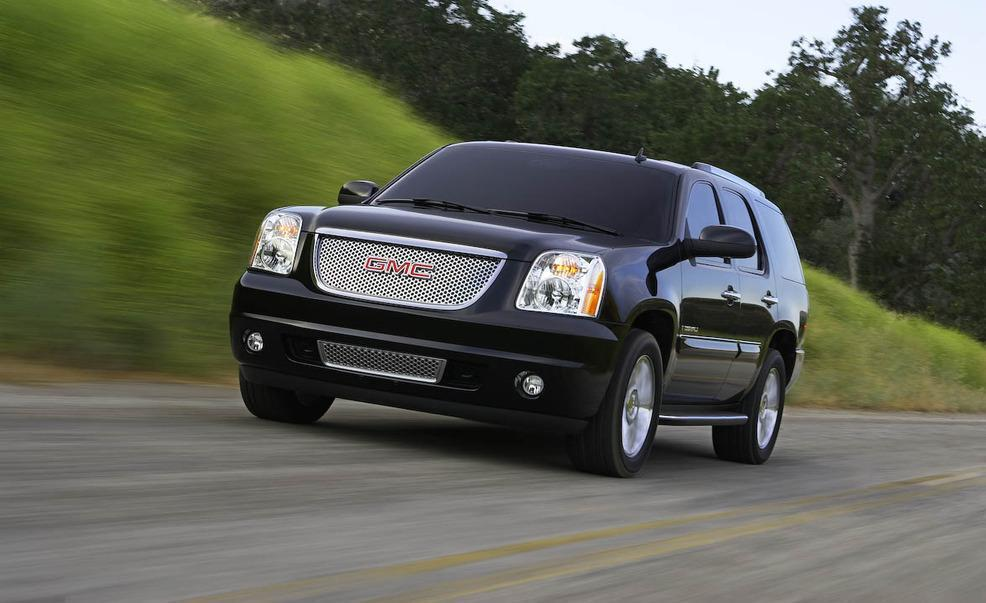Car: (222, 113, 823, 497)
